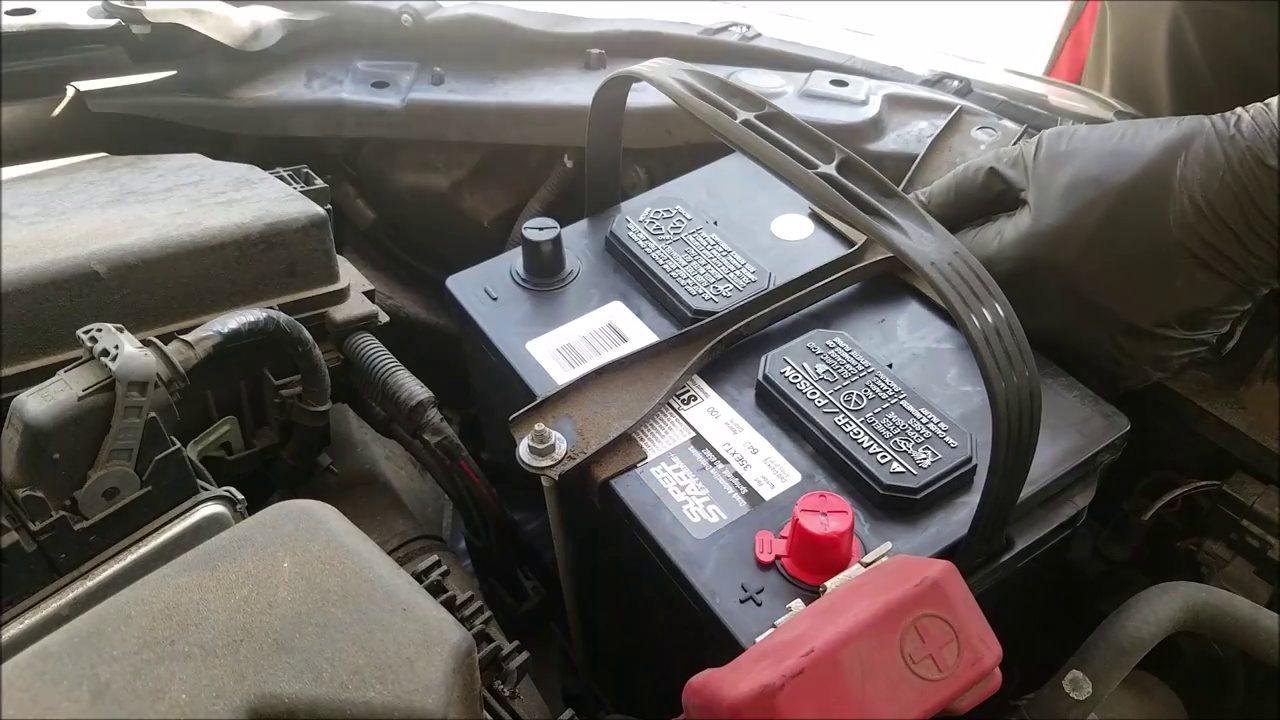battery: (448, 137, 1127, 654)
pos_disconnected: (714, 461, 970, 712)
